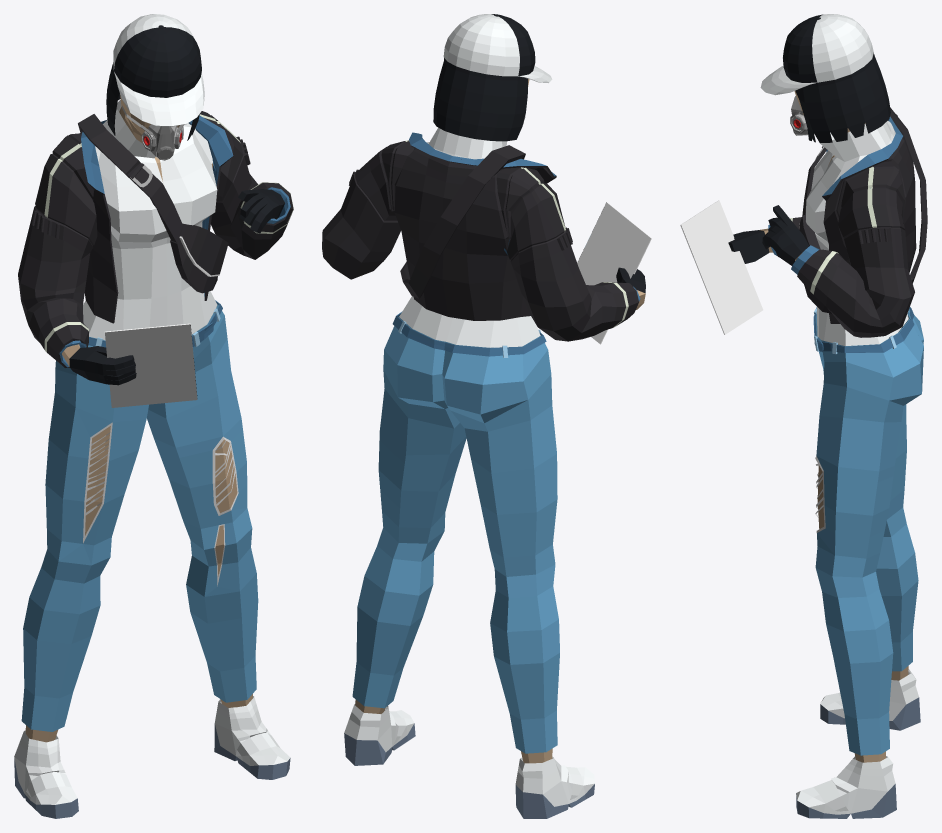
Rendered from new_wave_norm.obj.
3 views of the same model, side by side, from view 1: azimuth 30°, elevation 25°; view 2: azimuth 150°, elevation 25°; view 3: azimuth 270°, elevation 25° (orthographic). The views are drawn at different scales.
Visible parts, largest first — view 1: base_mesh_Cube.001; view 2: base_mesh_Cube.001; view 3: base_mesh_Cube.001.
Boxes of the visible parts, x1=… form: base_mesh_Cube.001: x1=14, y1=14, x2=293, y2=818; base_mesh_Cube.001: x1=322, y1=14, x2=651, y2=818; base_mesh_Cube.001: x1=680, y1=14, x2=927, y2=818.
Bounding box in the file's own units: 0.6601 × 1.79 × 0.5414.
Materials: 1 (1 with a texture image).
